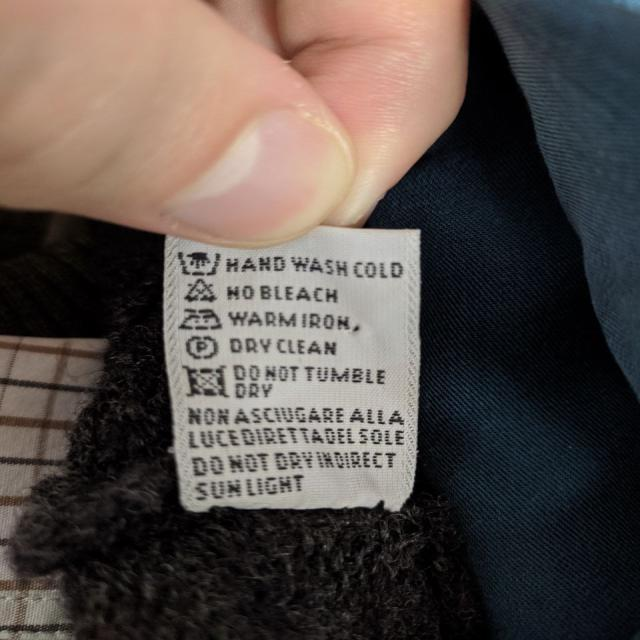DN_bleach: (183, 277, 217, 306)
DN_tumble_dry: (182, 361, 230, 402)
dry_clean_any_solvent_except_trichloroethylene: (186, 335, 220, 360)
hand_wash: (175, 250, 222, 276)
iron_medium: (180, 305, 225, 332)
